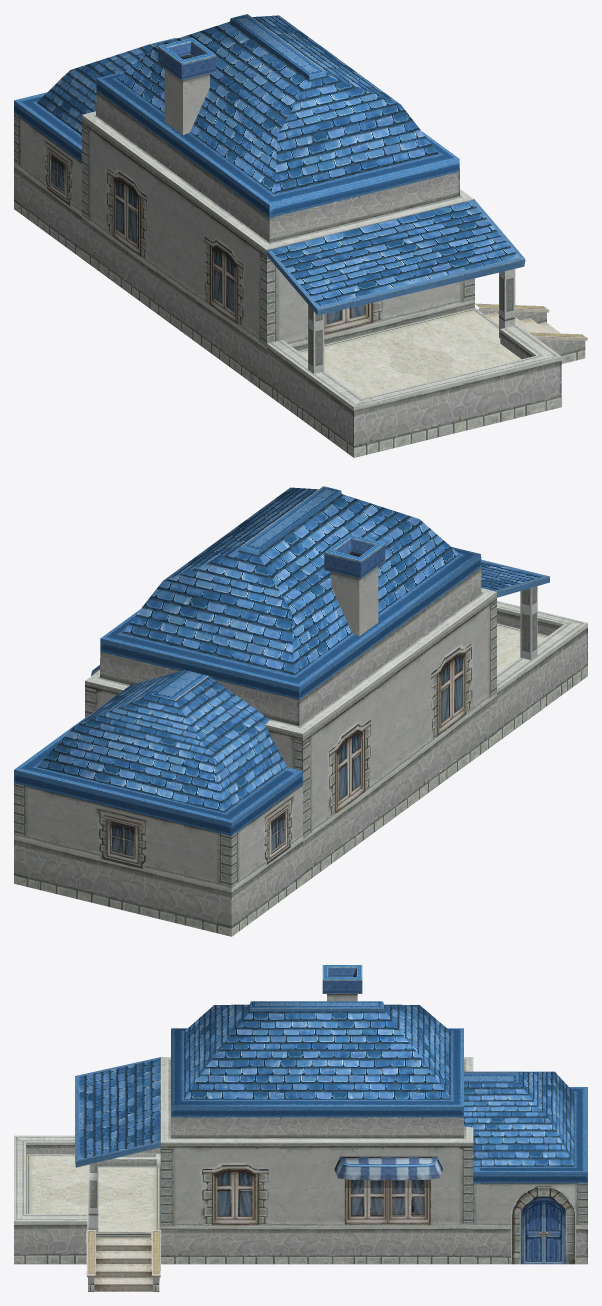
3 renders of one model, top to bottom at view 1: azimuth 30°, elevation 25°; view 2: azimuth 150°, elevation 25°; view 3: azimuth 270°, elevation 25°, orthographic. The views are drawn at different scales.
Parts seen in each view (by area): view 1: geom_node_1, geom_node_2, geom_node_0; view 2: geom_node_0, geom_node_1, geom_node_2; view 3: geom_node_0, geom_node_1, geom_node_2.
Boxes of the visible parts, x1,y1,x2,y2 form: geom_node_1: (174,43,474,393); geom_node_2: (267,200,587,457); geom_node_0: (14,14,339,326); geom_node_0: (14,516,399,936); geom_node_1: (227,486,496,813); geom_node_2: (481,559,587,742); geom_node_0: (316,965,587,1264); geom_node_1: (158,1001,316,1264); geom_node_2: (14,1057,161,1291).
Size of the model in its own units: 6.72 by 6 by 14.28.
9 materials, 9 textured.
